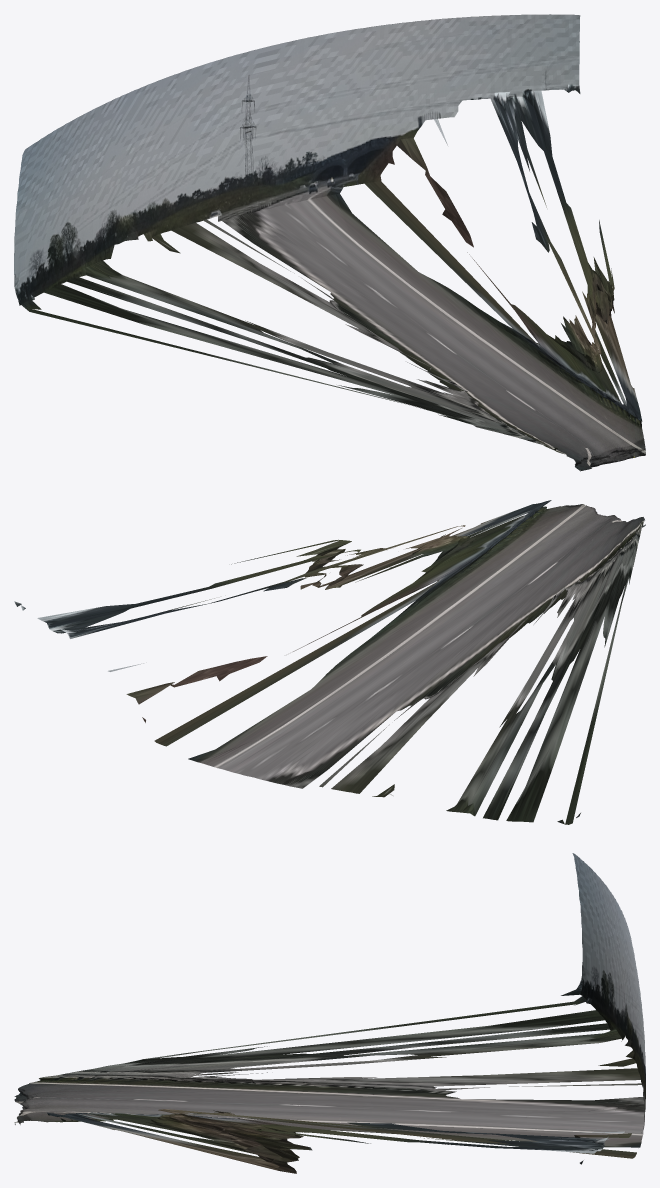
3 renders of one model, top to bottom at view 1: azimuth 30°, elevation 25°; view 2: azimuth 150°, elevation 25°; view 3: azimuth 270°, elevation 25°, orthographic. The views are drawn at different scales.
Parts seen in each view (by area): view 1: defaultobject; view 2: defaultobject; view 3: defaultobject.
Boxes of the visible parts, box(x1,y1,x2,y2) form: defaultobject: box(14, 14, 645, 471); defaultobject: box(14, 500, 645, 824); defaultobject: box(14, 853, 645, 1173).
Size of the model in its own units: 41.11 by 12.17 by 44.51.
Materials: 1 (1 with a texture image).
